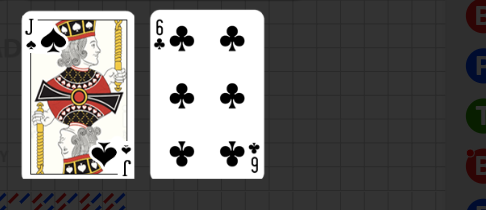6C: (247, 140, 261, 175), (154, 18, 168, 52)
JS: (89, 130, 133, 177), (22, 10, 66, 56)
